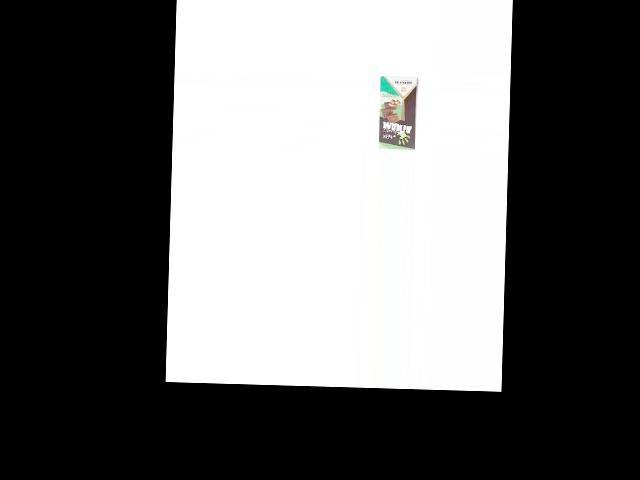chocolate: (376, 74, 419, 151)
